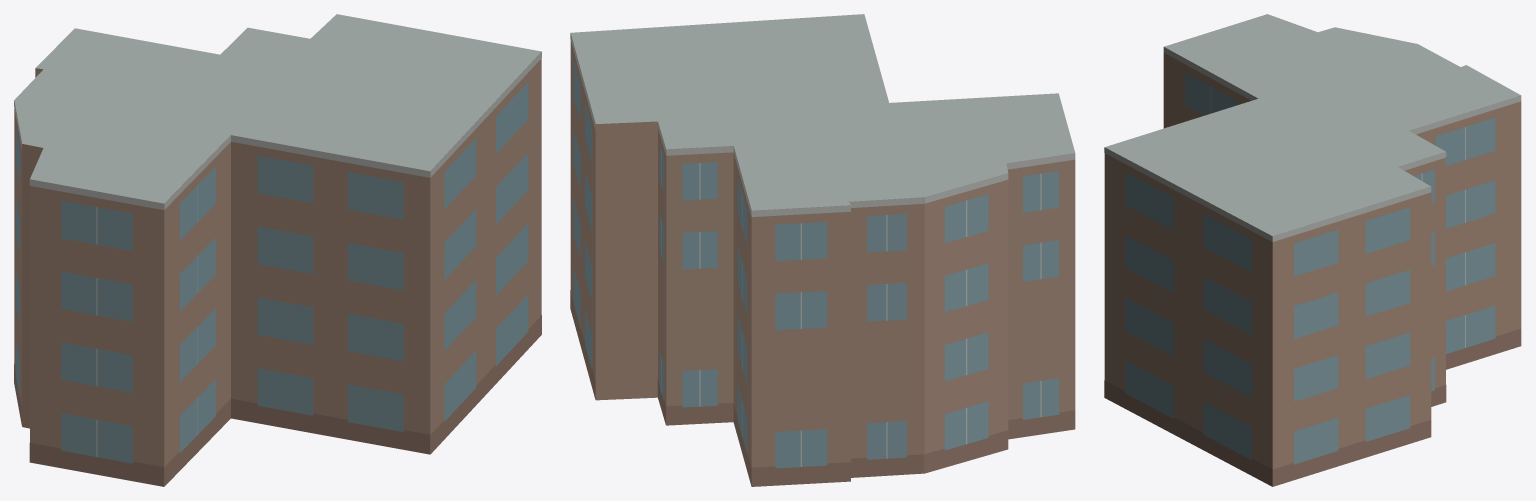
File: survey-upis-32764163.glb
The picture shows the model from 3 angles, left to right: view 1: azimuth 30°, elevation 25°; view 2: azimuth 150°, elevation 25°; view 3: azimuth 270°, elevation 25°; orthographic projection. The views are drawn at different scales.
Parts seen in each view (by area): view 1: survey-upis-32764163.tmp; view 2: survey-upis-32764163.tmp; view 3: survey-upis-32764163.tmp.
Part boxes in pixels (x1=…): survey-upis-32764163.tmp: x1=14, y1=14, x2=541, y2=486; survey-upis-32764163.tmp: x1=570, y1=14, x2=1075, y2=486; survey-upis-32764163.tmp: x1=1104, y1=14, x2=1521, y2=486.
Size of the model in its own units: 19.88 by 10.45 by 15.76.
